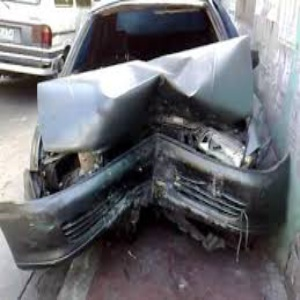bonnet: (28, 35, 258, 146)
bumper: (1, 140, 292, 269)
